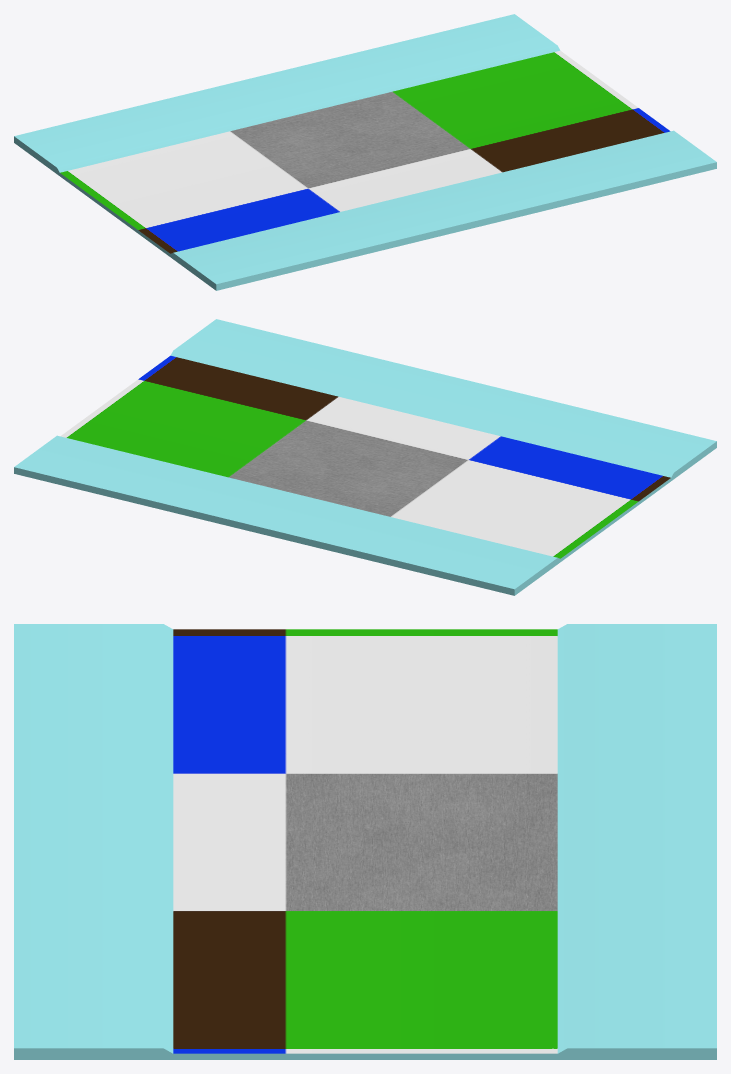
Rendered from Road1.fbx.
3 views of the same model, one above another, from view 1: azimuth 30°, elevation 25°; view 2: azimuth 150°, elevation 25°; view 3: azimuth 270°, elevation 25° (orthographic). The views are drawn at different scales.
Visible parts, largest first — view 1: Road; view 2: Road; view 3: Road.
Part boxes in pixels (x1,y1,x2,y2): Road: (14,14,716,290); Road: (14,319,716,595); Road: (14,624,716,1059).
Bounding box in the file's own units: 10 × 0.1268 × 7.
